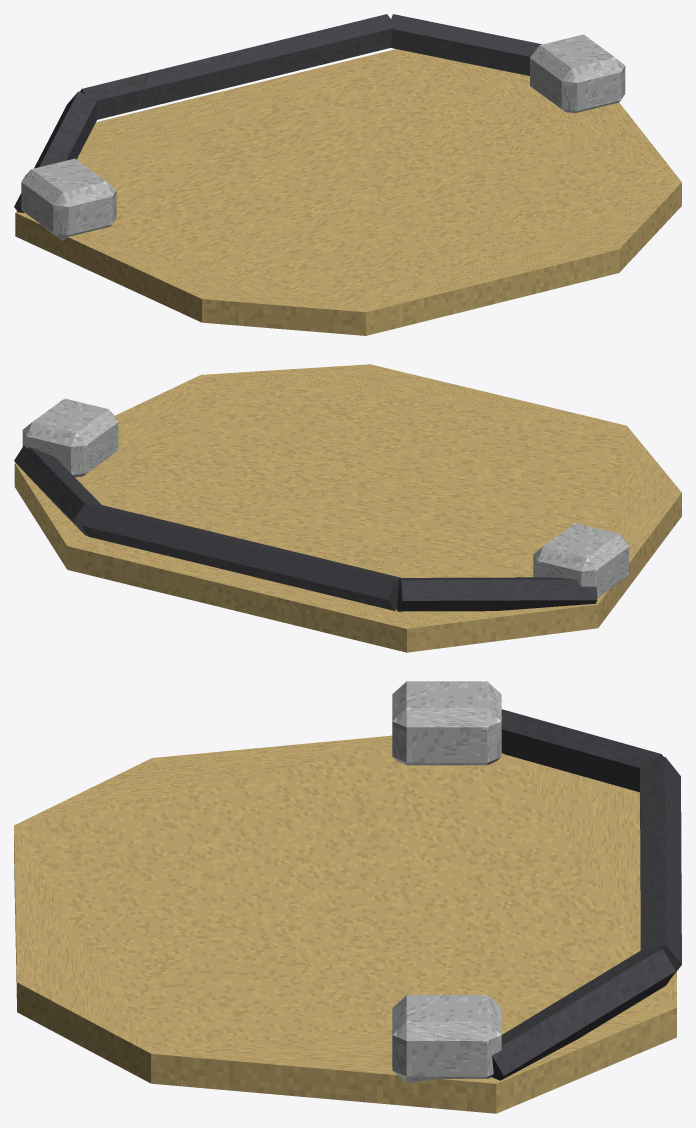
File: sun_shield.glb
3 views of the same model, one above another, from view 1: azimuth 30°, elevation 25°; view 2: azimuth 150°, elevation 25°; view 3: azimuth 270°, elevation 25° (orthographic). The views are drawn at different scales.
Parts seen in each view (by area): view 1: block_hard hat shade, block_side clip (×2), block_mounting rim 1, block_mounting rim 2, block_mounting rim 0; view 2: block_hard hat shade, block_mounting rim 1, block_side clip (×2), block_mounting rim 0, block_mounting rim 2; view 3: block_hard hat shade, block_side clip (×2), block_mounting rim 2, block_mounting rim 1, block_mounting rim 0.
Part boxes in pixels (x1=…): block_hard hat shade: x1=15, y1=49, x2=681, y2=335; block_side clip (×2): x1=21, y1=34, x2=625, y2=240; block_mounting rim 1: x1=80, y1=14, x2=395, y2=119; block_mounting rim 2: x1=391, y1=14, x2=541, y2=75; block_mounting rim 0: x1=14, y1=91, x2=96, y2=212; block_hard hat shade: x1=14, y1=364, x2=681, y2=652; block_mounting rim 1: x1=81, y1=504, x2=402, y2=610; block_side clip (×2): x1=22, y1=398, x2=628, y2=597; block_mounting rim 0: x1=396, y1=577, x2=597, y2=611; block_mounting rim 2: x1=14, y1=445, x2=101, y2=535; block_hard hat shade: x1=14, y1=735, x2=676, y2=1113; block_side clip (×2): x1=392, y1=681, x2=501, y2=1082; block_mounting rim 2: x1=492, y1=948, x2=675, y2=1080; block_mounting rim 1: x1=640, y1=757, x2=681, y2=976; block_mounting rim 0: x1=501, y1=709, x2=663, y2=792.
Bounding box in the file's own units: 0.1581 × 0.0171 × 0.1247.
Materials: 1 (1 with a texture image).
